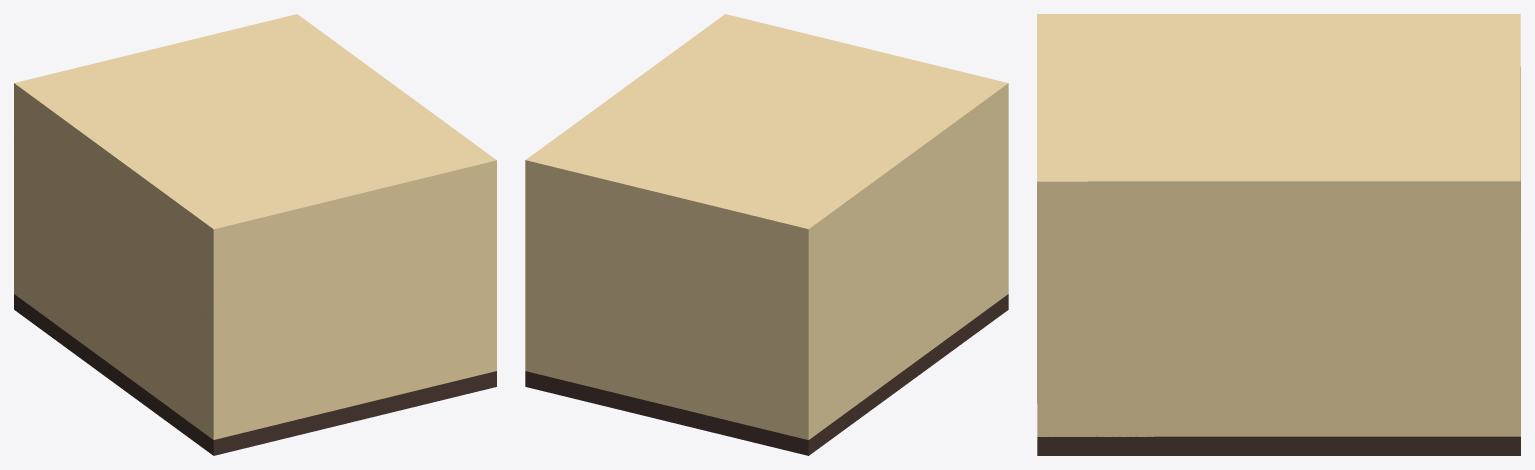
The model's file is FloorPlan29_physics.fbx.
The picture shows the model from 3 angles, left to right: view 1: azimuth 30°, elevation 25°; view 2: azimuth 150°, elevation 25°; view 3: azimuth 270°, elevation 25°; orthographic projection. The views are drawn at different scales.
Visible parts, largest first — view 1: Walls, Ceiling, Floor; view 2: Walls, Ceiling, Floor; view 3: Walls, Ceiling, Floor.
Part boxes in pixels (x1,y1,x2,y2): Walls: [14, 98, 496, 439]; Ceiling: [14, 14, 496, 244]; Floor: [14, 294, 496, 455]; Walls: [525, 98, 1008, 439]; Ceiling: [525, 14, 1008, 244]; Floor: [525, 294, 1008, 455]; Walls: [1037, 66, 1520, 436]; Ceiling: [1037, 14, 1520, 199]; Floor: [1037, 436, 1520, 455].
Size of the model in its own units: 399 by 305 by 488.
